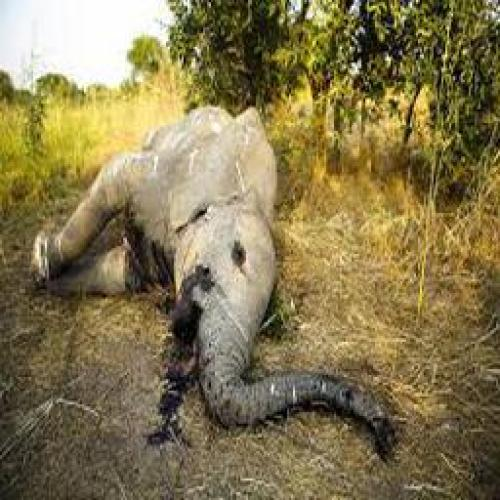african_elephant-endangered: (28, 111, 402, 450)
